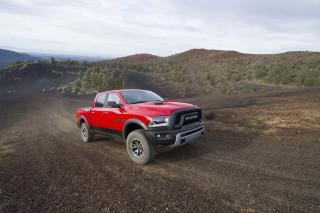ram: (182, 113, 200, 123)
